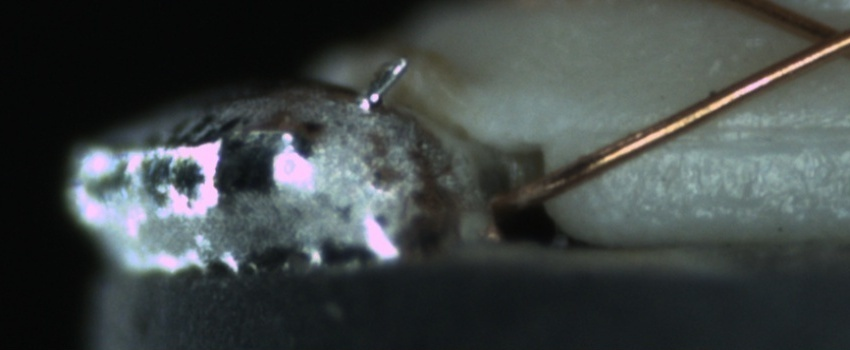CL: (783, 6, 849, 69)
DL: (612, 98, 845, 164)
